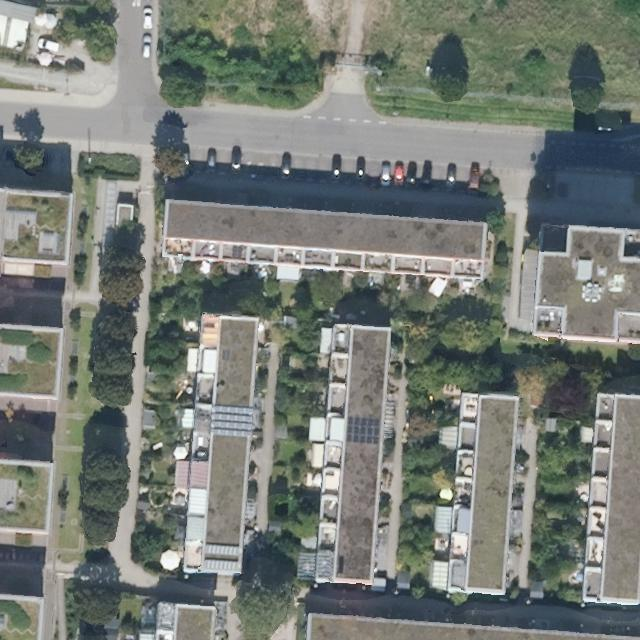PV: (206, 400, 258, 441), (340, 412, 385, 448), (200, 540, 244, 575)
